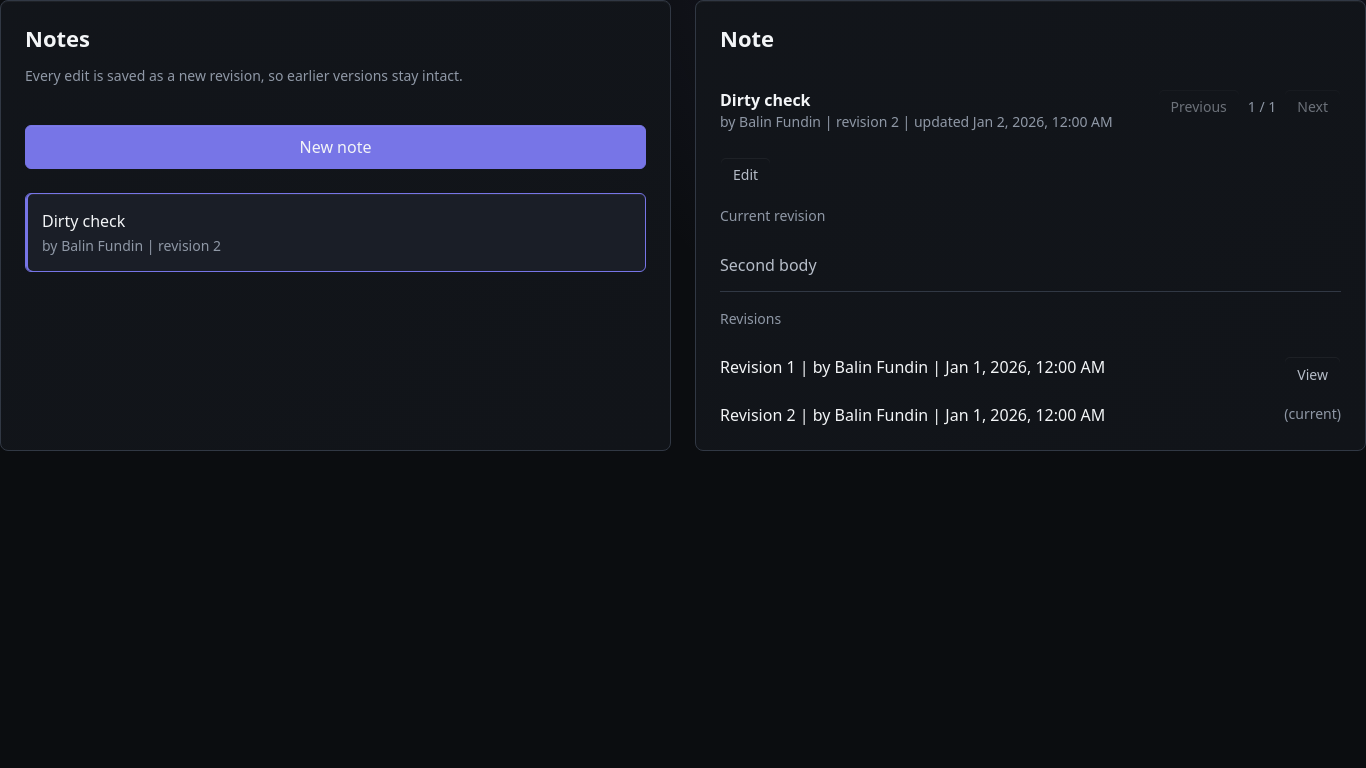
Test: NotesPanel › revision dirty check › re-disables after a saved revision reloads as the current text
Click the button with aria-label "Edit note" at (746, 175), box [720, 157, 771, 193]
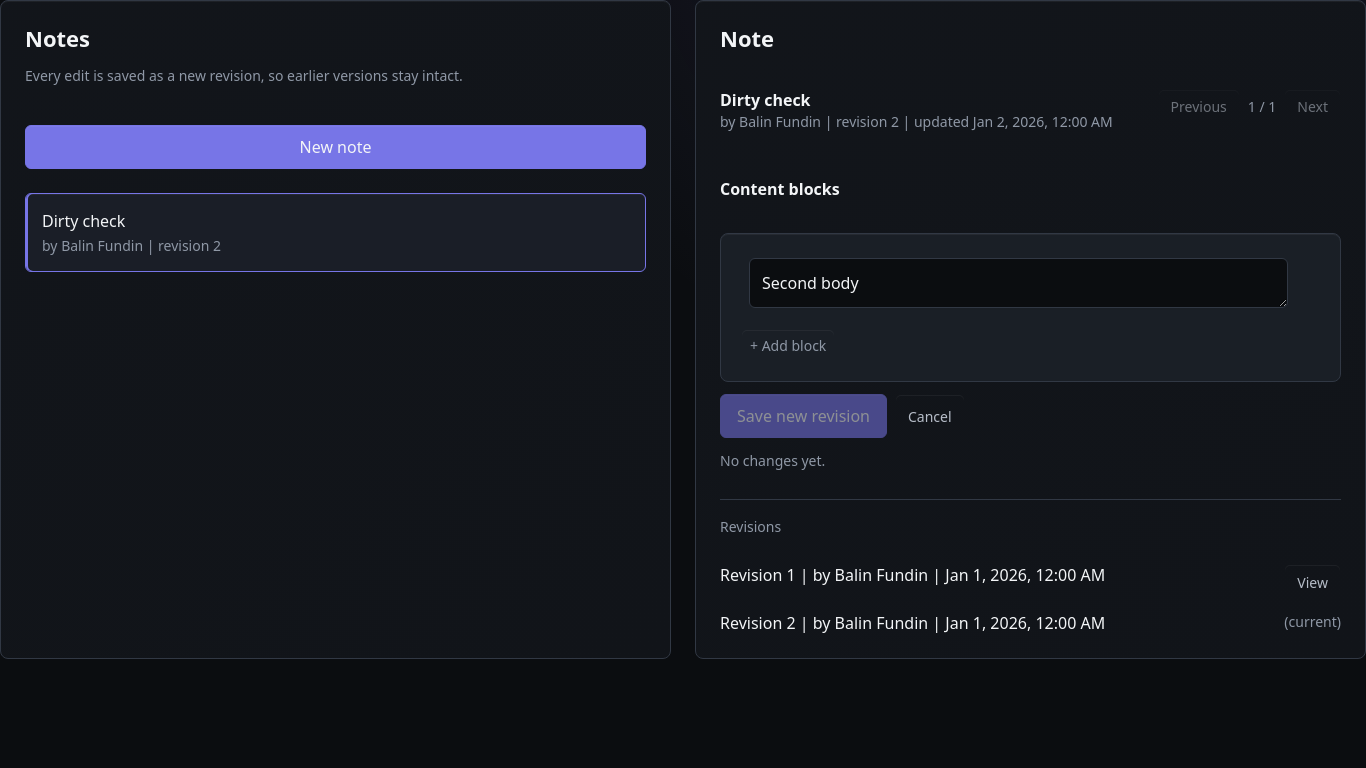
Replace the text in the text box showing "Second body" with "Third body" at (1018, 283), box [749, 258, 1288, 308]
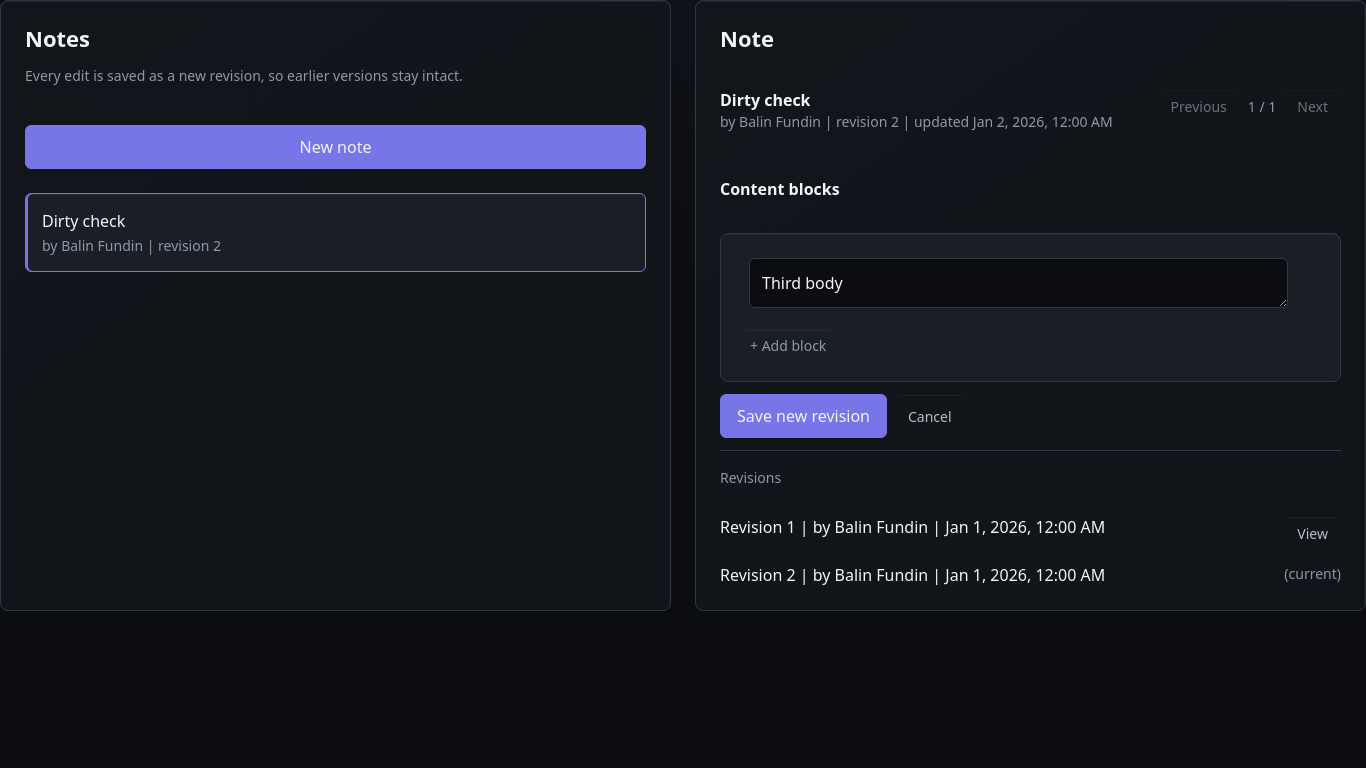
Expected: the button "Save new revision" is enabled
Click the button "Save new revision" at (804, 416), box [720, 394, 887, 438]
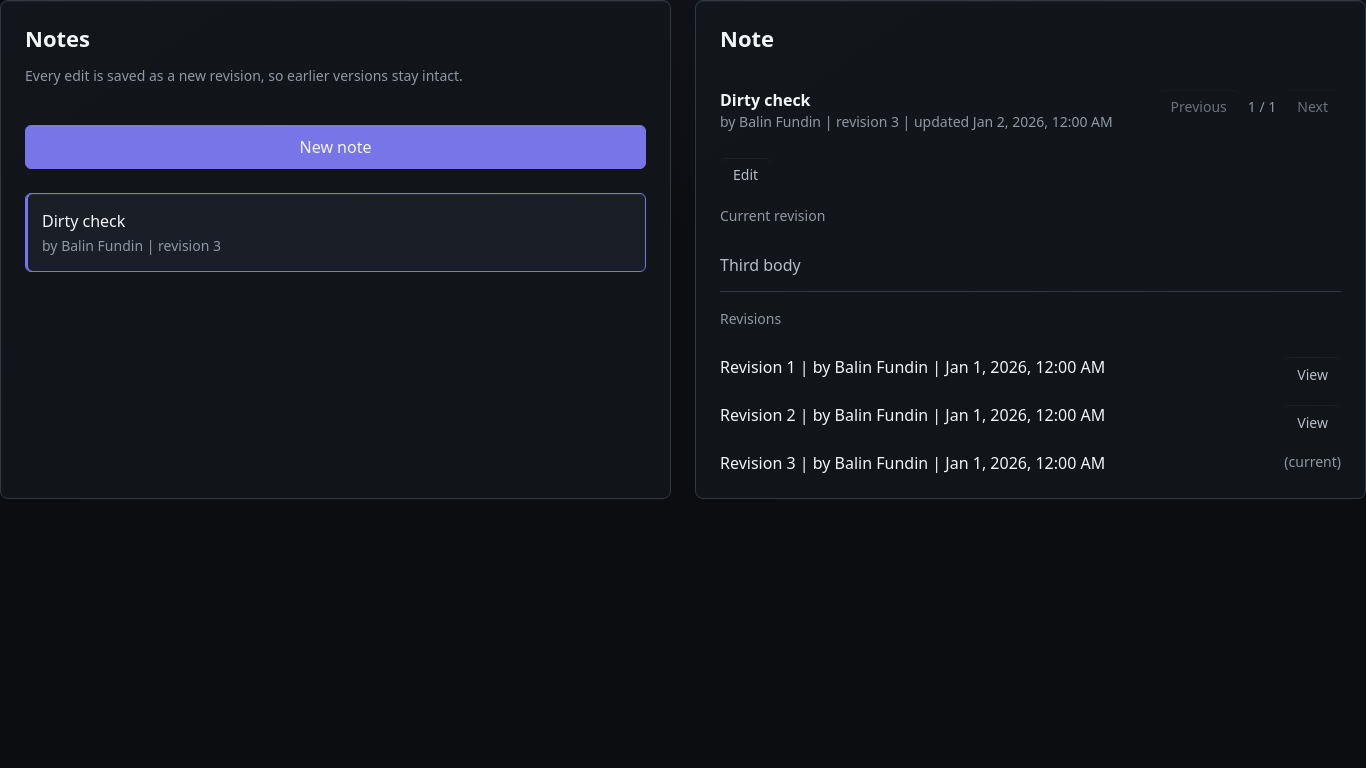
Expected: the button with aria-label "Edit note" is shown
Expected: the text "Third body" is shown, [720, 254, 801, 276]
Expected: the button "Save new revision" is gone
Click the button with aria-label "Edit note" at (746, 175), box [720, 157, 771, 193]
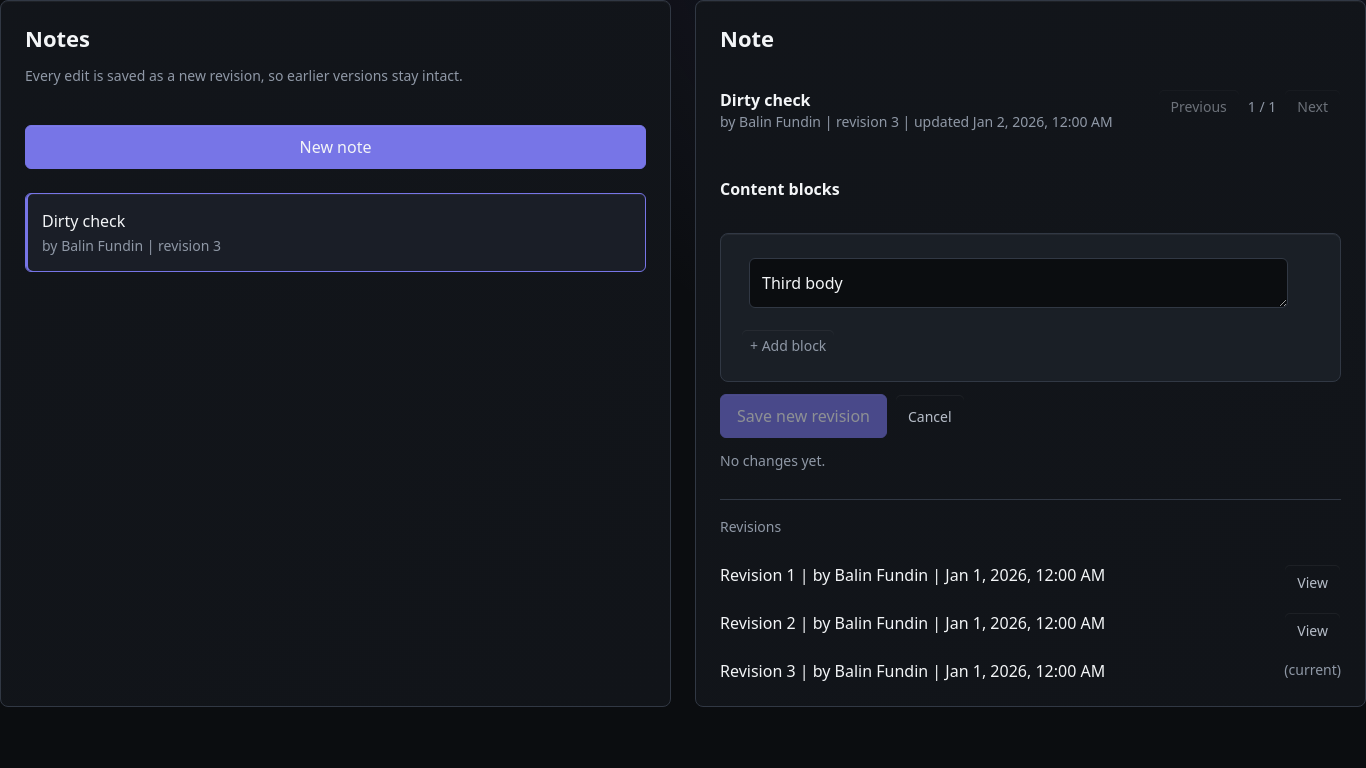
Expected: the button "Save new revision" is disabled, [720, 394, 887, 438]
Expected: the text "No changes yet." is shown, [720, 451, 825, 470]
Expected: the text box showing "Third body" is shown, [749, 258, 1288, 308]
